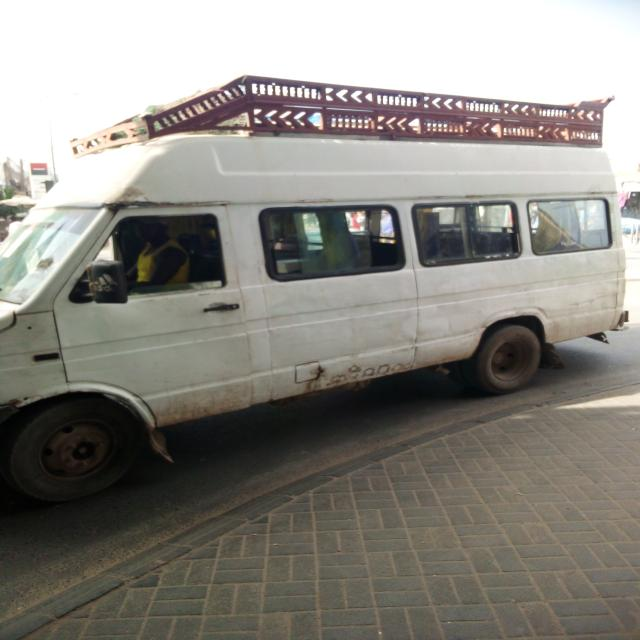ndiaga ndiaye: (1, 77, 626, 502)
